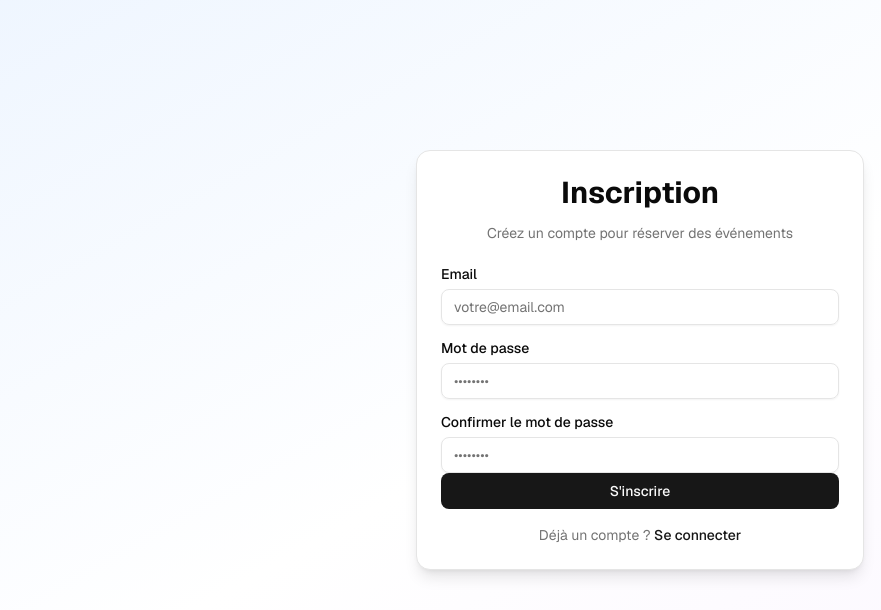
Test case: RegisterPage › affiche une erreur si les mots de passe ne correspondent pas
In the field labelled "Email": (640, 307) [441, 289, 839, 325], type "new@test.com"
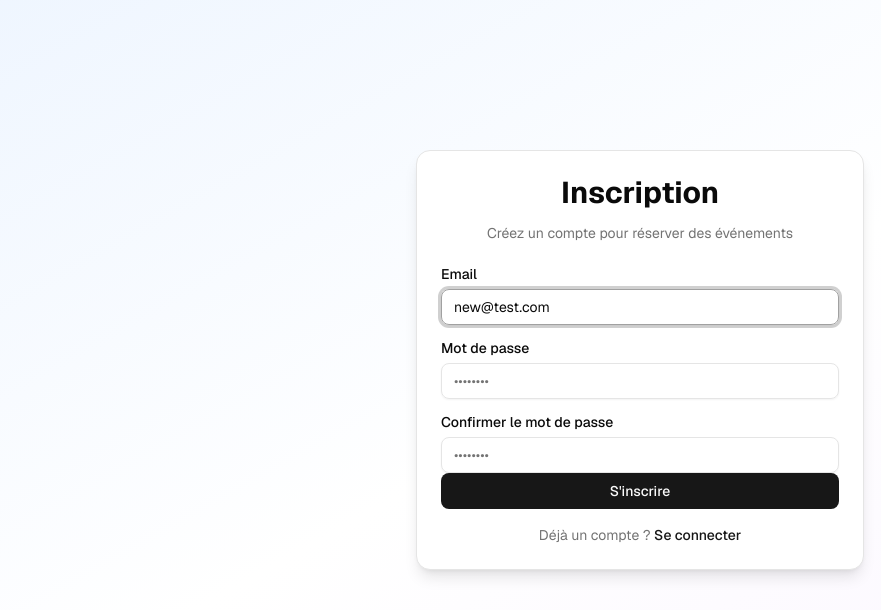
In the password field labelled "Mot de passe": (640, 381) [441, 363, 839, 399], type "password123"
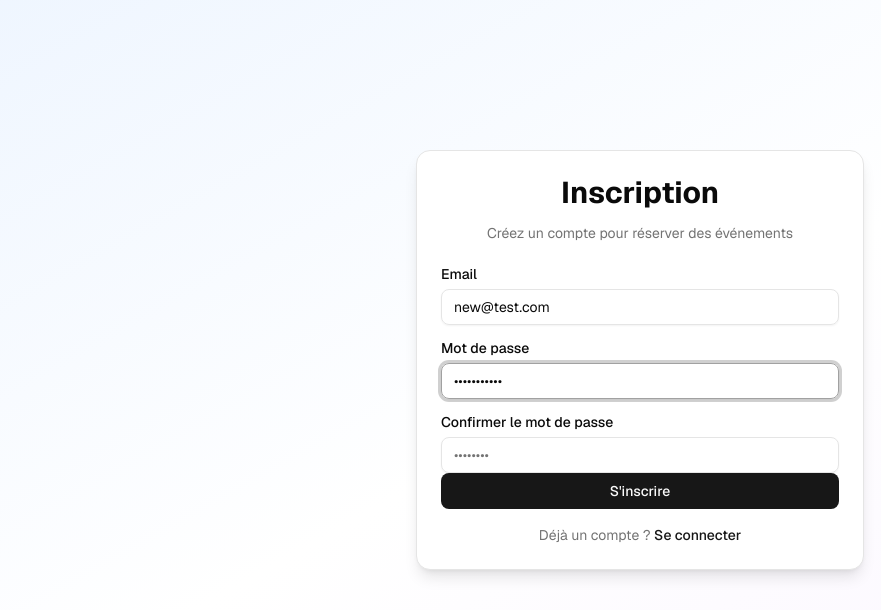
In the password field labelled "Confirmer le mot de passe": (640, 455) [441, 437, 839, 473], type "different"
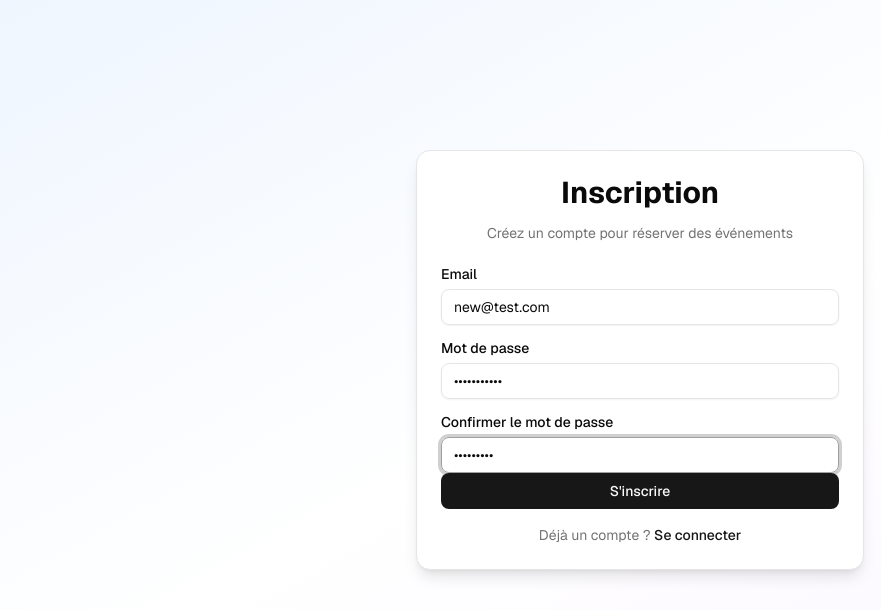
Click the button "S'inscrire": (640, 491) [441, 473, 839, 509]
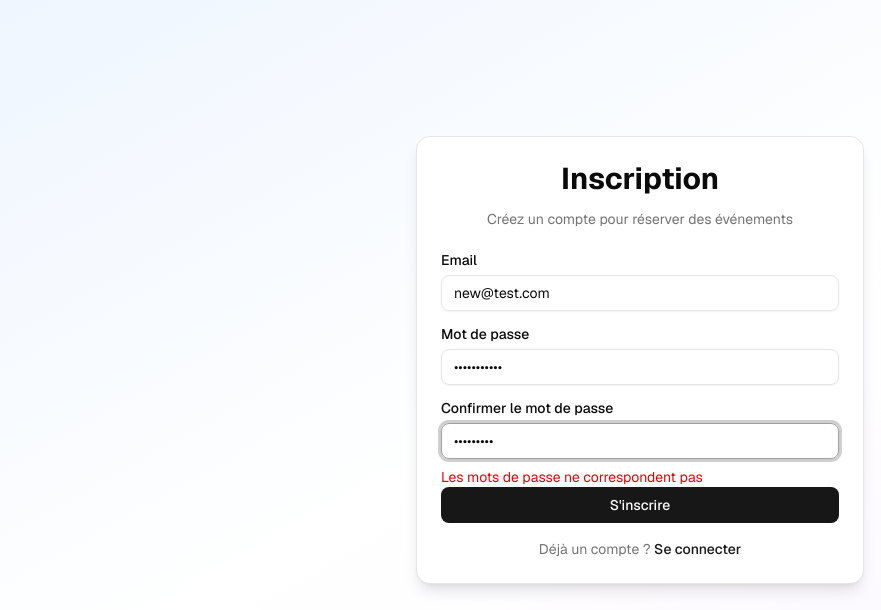
expect the text "Les mots de passe ne correspondent pas" is shown: met, box [441, 468, 703, 486]
